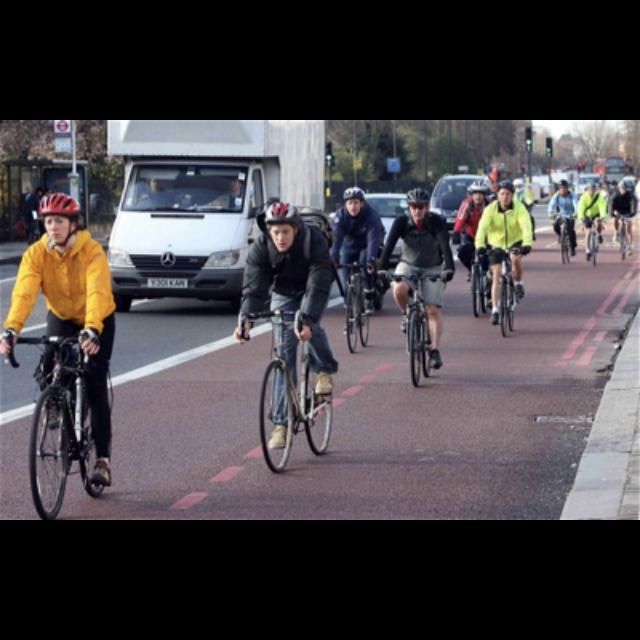With Helmet: (32, 190, 82, 252), (260, 201, 304, 251), (403, 184, 433, 224), (336, 184, 368, 220), (493, 178, 519, 208)
